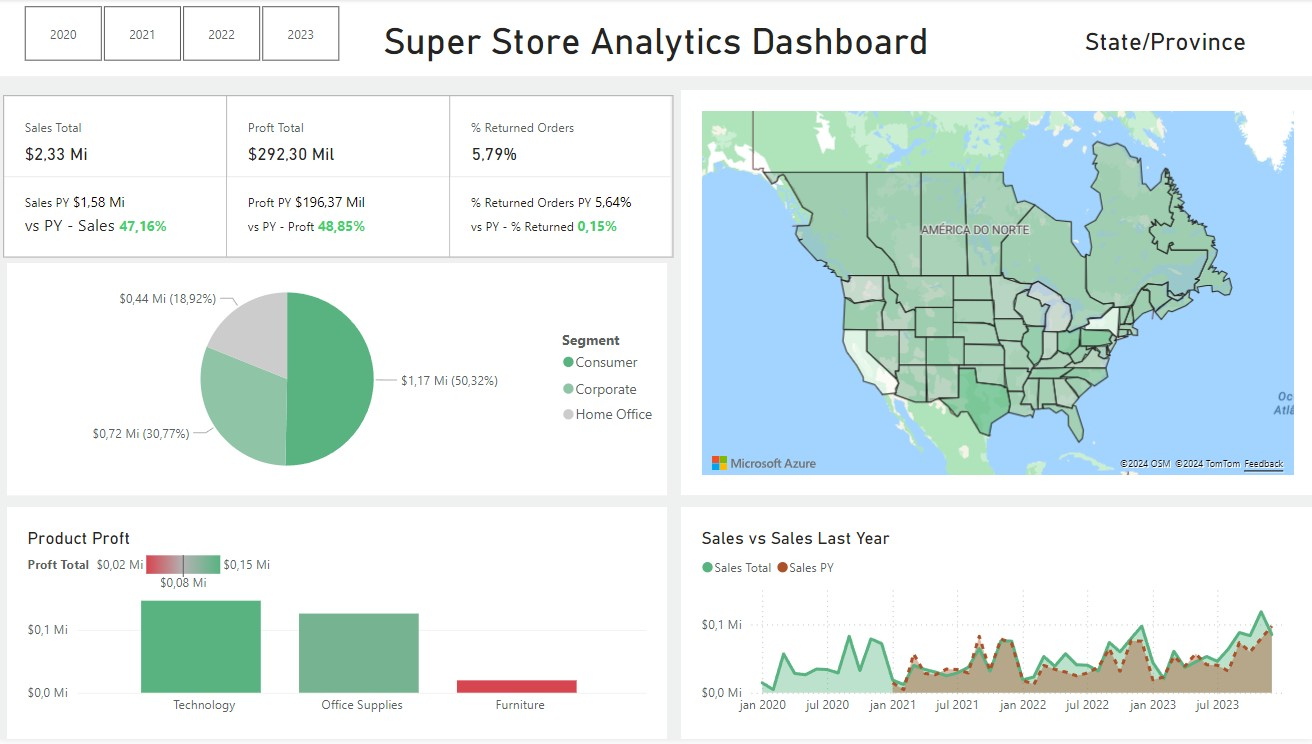

The dashboard page shown, as its layout file describes it:
{"tool":"powerbi","page":{"name":"Página 1","canvas":[1280,720],"ordinal":0},"visuals":[{"type":"cardVisual","fields":{"Data":["Mesures.Sales Total","Mesures.Proft Total","Mesures.% Returned Orders"]},"box":[0,88.5,664.3,168.3],"z":0},{"type":"lineChart","title":"Sales vs Sales Last Year","fields":{"Y":["Mesures.Sales Total","Mesures.Sales PY"],"Category":["Dim_Date.Start Of Month.Variation.Hierarquia de datas.Ano","Dim_Date.Start Of Month.Variation.Hierarquia de datas.Trimestre","Dim_Date.Start Of Month.Variation.Hierarquia de datas.Mês","Dim_Date.Start Of Month.Variation.Hierarquia de datas.Dia"]},"box":[664.3,494.1,615.7,225.7],"z":1000},{"type":"columnChart","title":"Product Proft","fields":{"Category":["Fact_Orders.Category"],"Y":["Mesures.Proft Total"]},"box":[8.8,494.1,641.9,225.7],"z":2000},{"type":"azureMap","title":"Sales vs Sales Last Year","fields":{"Category":["Fact_Orders.State/Province"]},"box":[664.3,88.5,615.7,393.9],"z":3000},{"type":"card","fields":{"Values":["Mesures._title"]},"box":[0,0,1280,74.9],"z":4000},{"type":"card","fields":{"Values":["Mesures._title Sate Province"]},"box":[1043.6,13.6,183.8,53.5],"z":5000},{"type":"pieChart","fields":{"Y":["Mesures.Sales Total"],"Category":["Fact_Orders.Segment"]},"box":[8.8,256.8,641.9,225.7],"z":6000},{"type":"slicer","fields":{"Values":["Dim_Date.Year"]},"box":[0,0,356,67.1],"z":7000}]}

Visuals, with their boxes in screenshot pixels (x1, y1, x2, y2), scaled from the page's 1280x720 canvas onto the 1312x744 screenshot:
cardVisual - Mesures.Sales Total x Mesures.Proft Total: (0,91,681,265)
"Sales vs Sales Last Year" lineChart: (681,511,1311,743)
"Product Proft" columnChart: (9,511,667,743)
"Sales vs Sales Last Year" azureMap: (681,91,1311,498)
card - Mesures._title: (0,0,1311,77)
card - Mesures._title Sate Province: (1070,14,1258,69)
pieChart - Mesures.Sales Total x Fact_Orders.Segment: (9,265,667,499)
slicer - Dim_Date.Year: (0,0,365,69)
